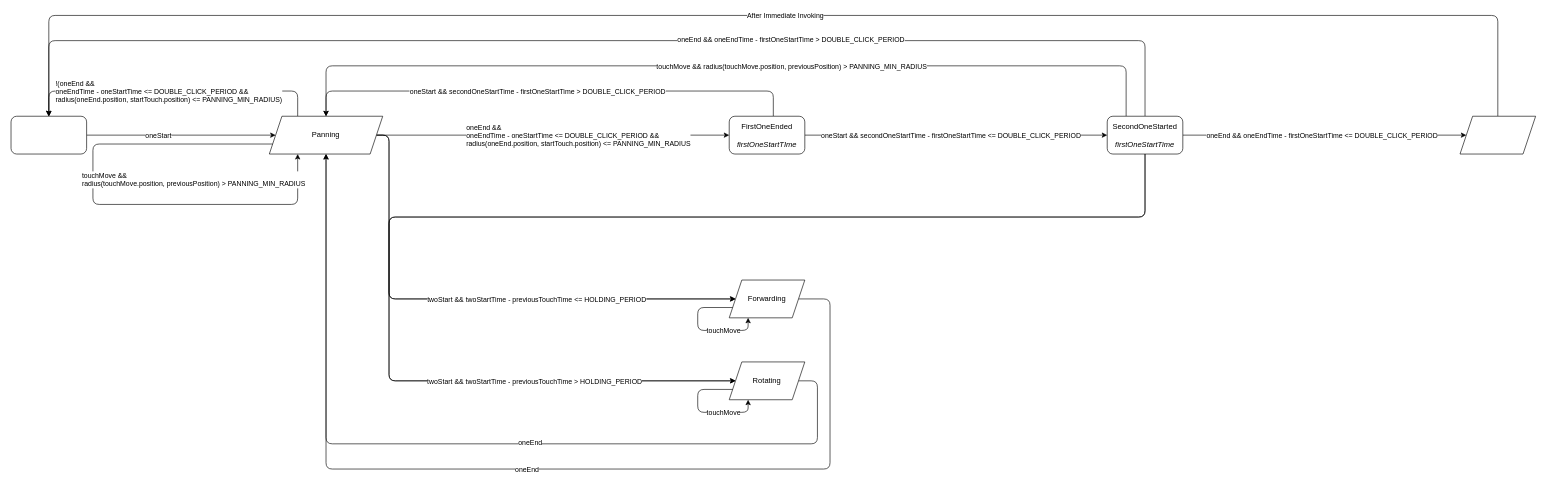
Some shapes in this 1547 by 485 pixel diagram are drawn without their labels. The box of each missing label's shape, as (x1, y1, x2, y2) in pixels:
goForward: (1459, 116, 1536, 154)
Idle: (10, 116, 87, 154)
